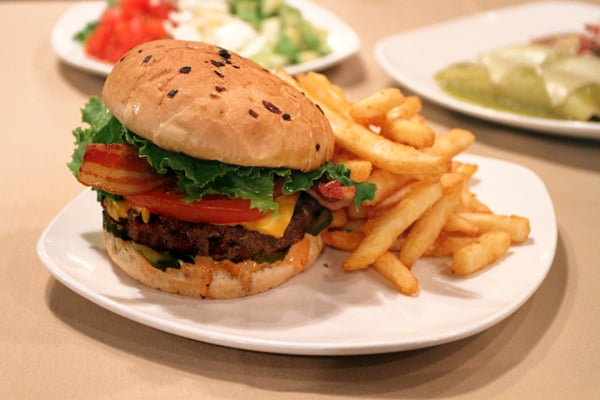soup: (66, 37, 351, 300)
sushi: (74, 0, 363, 79)
